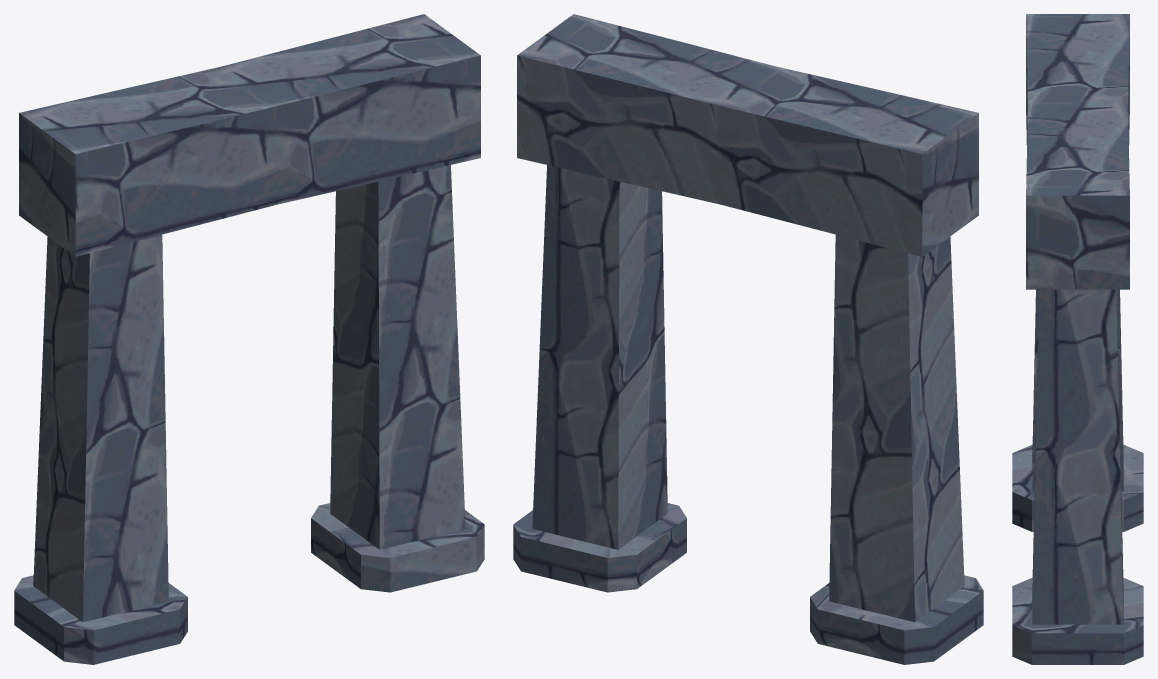
The model's file is Gate 1.fbx.
The picture shows the model from 3 angles, left to right: view 1: azimuth 30°, elevation 25°; view 2: azimuth 150°, elevation 25°; view 3: azimuth 270°, elevation 25°; orthographic projection. The views are drawn at different scales.
Parts seen in each view (by area): view 1: Cube.005; view 2: Cube.005; view 3: Cube.005.
Part boxes in pixels (<box>): Cube.005: <box>14,14,484,664</box>; Cube.005: <box>513,14,983,664</box>; Cube.005: <box>1012,14,1143,664</box>.
Bounding box in the file's own units: 313 × 361 × 92.26.
1 material, 1 textured.
